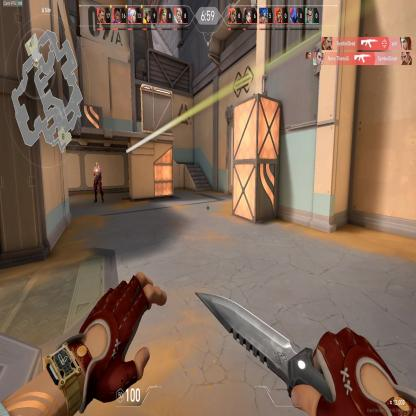enemy: (93, 160, 104, 204)
